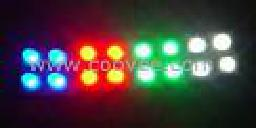LED: (20, 70, 43, 93), (134, 43, 152, 63), (78, 43, 97, 61), (189, 36, 207, 55)
